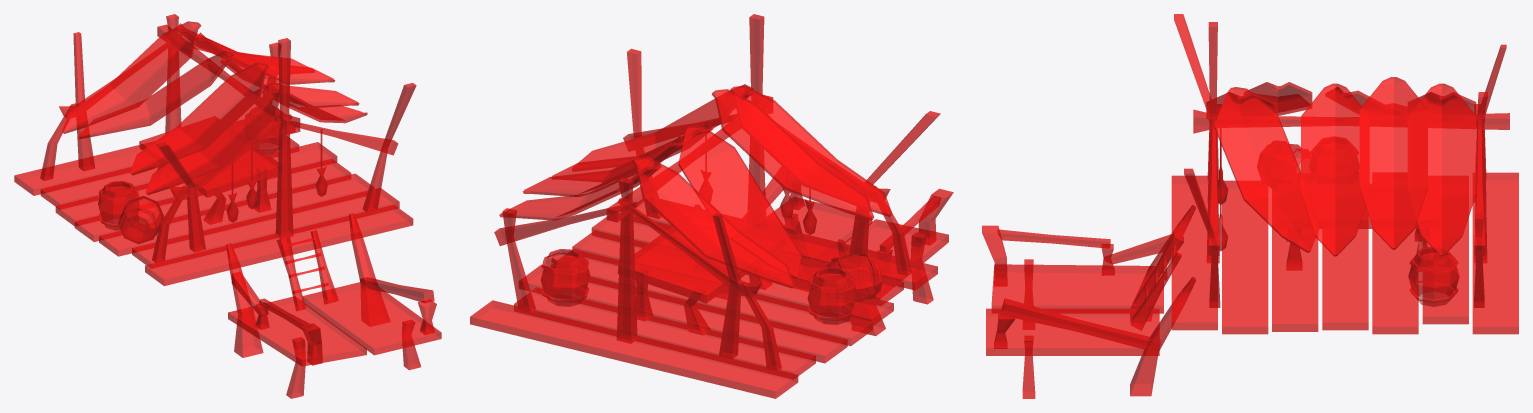
File: Water_house_impossible_to_place.fbx
3 renders of one model, left to right at view 1: azimuth 30°, elevation 25°; view 2: azimuth 150°, elevation 25°; view 3: azimuth 270°, elevation 25°, orthographic. The views are drawn at different scales.
Visible parts, largest first — view 1: Plane.001; view 2: Plane.001; view 3: Plane.001.
Boxes of the visible parts, left/top/right/bottom form: Plane.001: left=14, top=14, right=441, bottom=398; Plane.001: left=470, top=14, right=953, bottom=398; Plane.001: left=982, top=14, right=1518, bottom=398.
Bounding box in the file's own units: 7 × 10 × 7.
